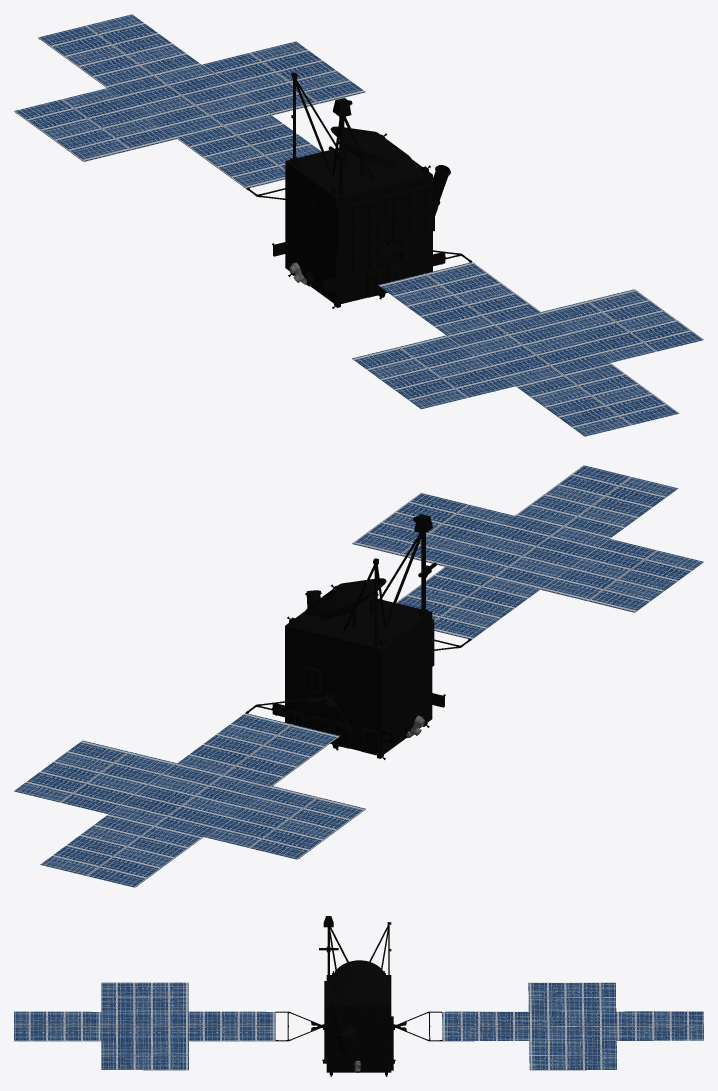
File: spacecraftWIP.glb
The picture shows the model from 3 angles, top to bottom: view 1: azimuth 30°, elevation 25°; view 2: azimuth 150°, elevation 25°; view 3: azimuth 270°, elevation 25°; orthographic projection. The views are drawn at different scales.
Visible parts, largest first — view 1: psycheSpacecraft_a, psycheSolarPanel1-4_a.007, psycheSolarPanel1-4_a.001, psycheSolarPanel1-4_a.004, psycheSolarPanel1-4_a.002, psycheSolarPanel1-4_a, psycheSolarPanel1-4_a.005, psycheSolarPanel1-4_a.003, psycheSolarPanel1-4_a.006, psycheSolarPanel1-4_a.008, psycheSolarPanel1-4_a.009, psycheSolarBars1_a; view 2: psycheSpacecraft_a, psycheSolarPanel1-4_a.001, psycheSolarPanel1-4_a.007, psycheSolarPanel1-4_a.005, psycheSolarPanel1-4_a.008, psycheSolarPanel1-4_a.009, psycheSolarPanel1-4_a.004, psycheSolarPanel1-4_a.003, psycheSolarPanel1-4_a.006, psycheSolarPanel1-4_a.002, psycheSolarPanel1-4_a, psycheSolarBars1_a.001; view 3: psycheSpacecraft_a, psycheSolarPanel1-4_a, psycheSolarPanel1-4_a.004, psycheSolarPanel1-4_a.002, psycheSolarPanel1-4_a.009, psycheSolarPanel1-4_a.008, psycheSolarPanel1-4_a.007, psycheSolarPanel1-4_a.001, psycheSolarPanel1-4_a.005, psycheSolarPanel1-4_a.003, psycheSolarPanel1-4_a.006, psycheSolarBars1_a.
Part boxes in pixels (x1,y1,x2,y2): psycheSpacecraft_a: [272, 72, 450, 308]; psycheSolarPanel1-4_a.007: [14, 88, 176, 161]; psycheSolarPanel1-4_a.001: [352, 335, 515, 409]; psycheSolarPanel1-4_a.004: [516, 363, 679, 436]; psycheSolarPanel1-4_a.002: [541, 289, 703, 362]; psycheSolarPanel1-4_a: [378, 262, 541, 335]; psycheSolarPanel1-4_a.005: [38, 14, 201, 87]; psycheSolarPanel1-4_a.003: [447, 313, 609, 385]; psycheSolarPanel1-4_a.006: [108, 64, 270, 137]; psycheSolarPanel1-4_a.008: [202, 41, 365, 115]; psycheSolarPanel1-4_a.009: [177, 115, 321, 188]; psycheSolarBars1_a: [367, 241, 472, 285]; psycheSpacecraft_a: [272, 514, 445, 759]; psycheSolarPanel1-4_a.001: [540, 538, 703, 612]; psycheSolarPanel1-4_a.007: [203, 786, 365, 859]; psycheSolarPanel1-4_a.005: [40, 814, 203, 887]; psycheSolarPanel1-4_a.008: [14, 740, 176, 814]; psycheSolarPanel1-4_a.009: [177, 713, 339, 786]; psycheSolarPanel1-4_a.004: [515, 465, 677, 538]; psycheSolarPanel1-4_a.003: [447, 516, 608, 588]; psycheSolarPanel1-4_a.006: [109, 764, 270, 836]; psycheSolarPanel1-4_a.002: [352, 493, 514, 566]; psycheSolarPanel1-4_a: [396, 566, 540, 639]; psycheSolarBars1_a.001: [245, 692, 350, 735]; psycheSpacecraft_a: [319, 916, 395, 1076]; psycheSolarPanel1-4_a: [188, 1011, 275, 1041]; psycheSolarPanel1-4_a.004: [14, 1011, 101, 1041]; psycheSolarPanel1-4_a.002: [101, 1040, 188, 1070]; psycheSolarPanel1-4_a.009: [442, 1011, 529, 1041]; psycheSolarPanel1-4_a.008: [529, 1040, 616, 1070]; psycheSolarPanel1-4_a.007: [528, 982, 616, 1011]; psycheSolarPanel1-4_a.001: [101, 982, 188, 1011]; psycheSolarPanel1-4_a.005: [616, 1011, 703, 1040]; psycheSolarPanel1-4_a.003: [101, 1011, 187, 1040]; psycheSolarPanel1-4_a.006: [529, 1011, 616, 1040]; psycheSolarBars1_a: [275, 1011, 324, 1041].
Bounding box in the file's own units: 186 × 132 × 618.
Materials: 15 (10 with a texture image).
